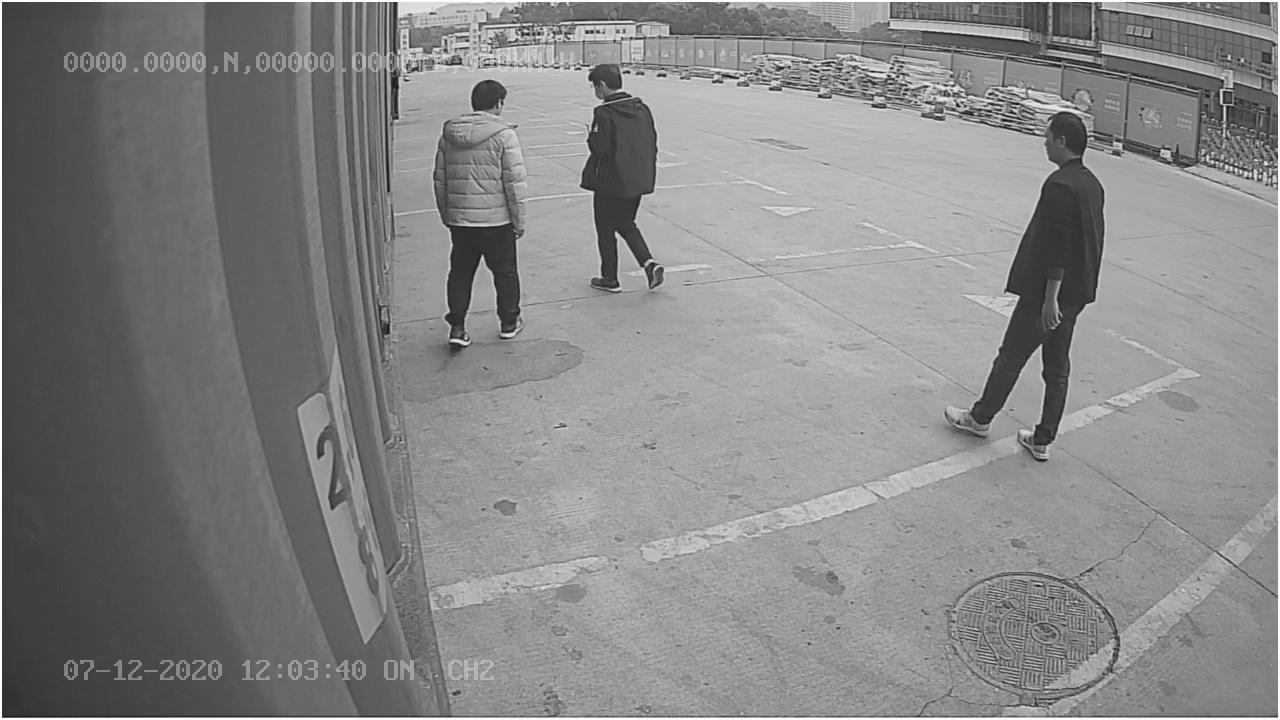person: (938, 101, 1112, 463), (426, 73, 537, 356), (575, 60, 669, 295)
